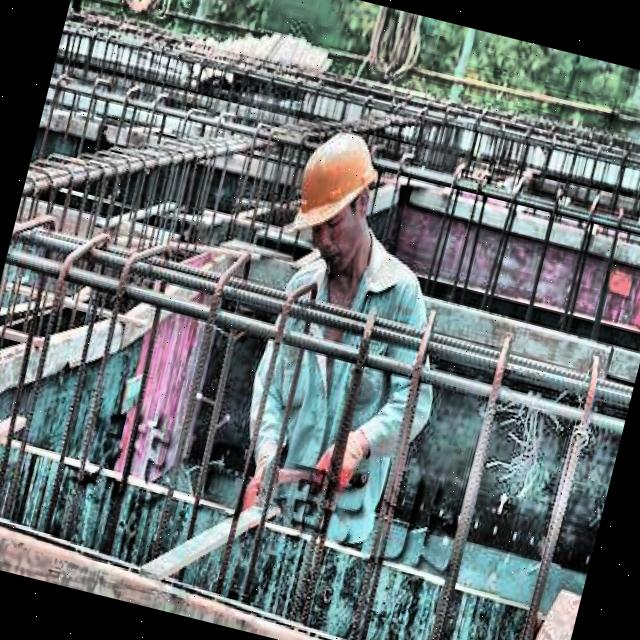helmet: (267, 105, 397, 275)
